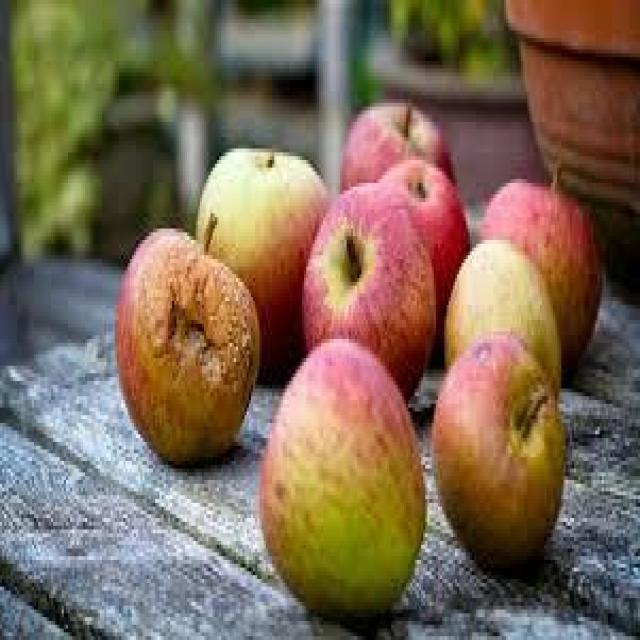maca: (258, 335, 426, 617), (113, 225, 259, 465), (430, 328, 566, 568)
